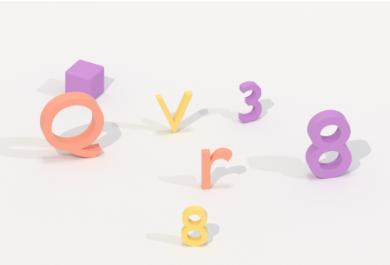0-KhoiVuong: (59, 57, 111, 103)
3: (235, 78, 264, 127)
8: (303, 107, 354, 184), (179, 202, 212, 252)
Q: (37, 90, 105, 161)
V: (152, 88, 195, 137)
r: (197, 143, 235, 191)
